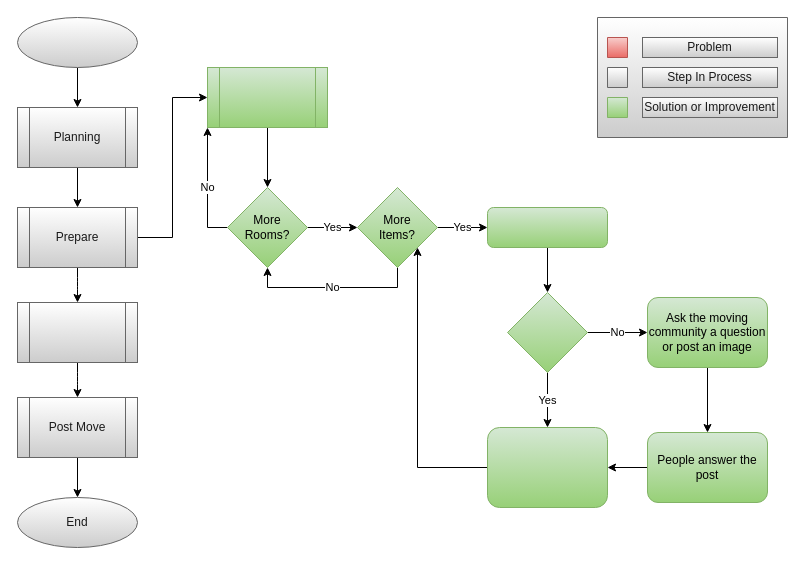
Image size: 805x565. Some labels were removed from this diagram. The shapes that lost their labels are listed below. From the top down, each one's box as (x1, y1, x2, y2) in pixels, then its label:
(16, 16, 138, 68): Start
(206, 66, 328, 128): Pack
(486, 206, 608, 248): Search for tips on an item
(16, 302, 138, 362): Move
(506, 292, 588, 372): Tips found
(486, 426, 608, 508): Follow tips on how to pack and what materials to use
